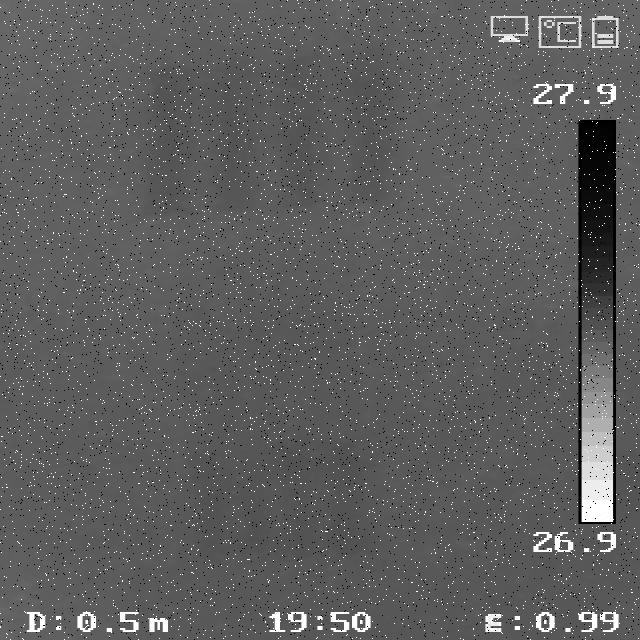Indistinguishable 4-bar target: (155, 56, 392, 216), (200, 432, 381, 558)
